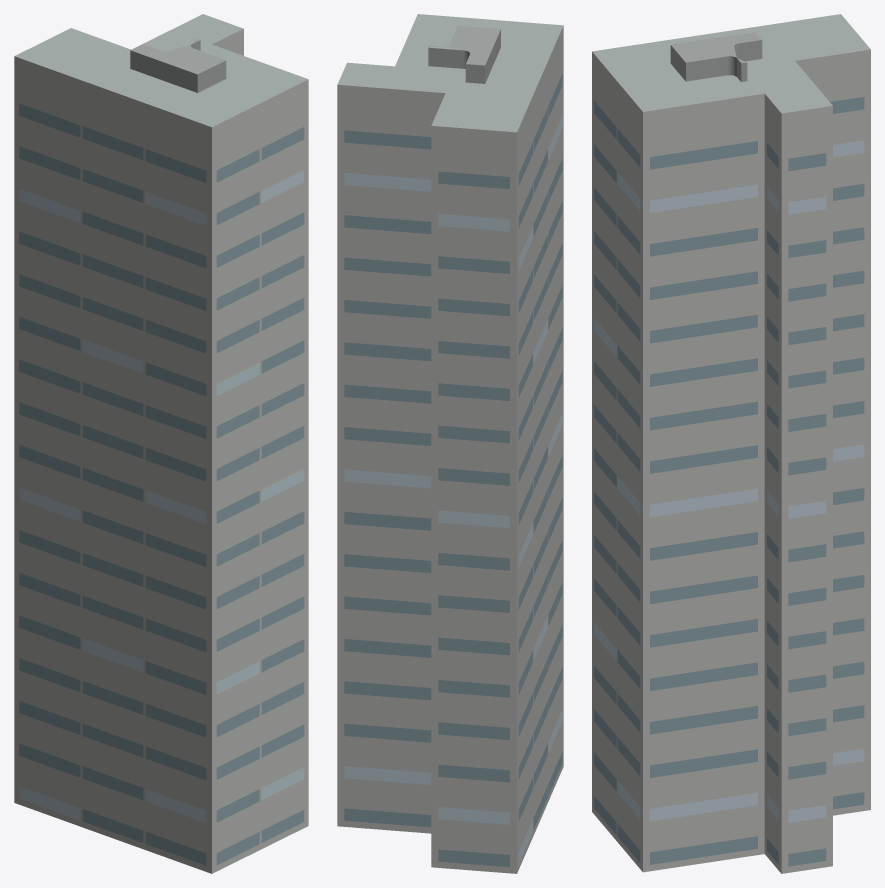
Rendered from fallback-songpa-helio-city-218.glb.
The picture shows the model from 3 angles, left to right: view 1: azimuth 30°, elevation 25°; view 2: azimuth 150°, elevation 25°; view 3: azimuth 270°, elevation 25°; orthographic projection. The views are drawn at different scales.
Visible parts, largest first — view 1: fallback-songpa-helio-city-218; view 2: fallback-songpa-helio-city-218; view 3: fallback-songpa-helio-city-218.
Boxes of the visible parts, x1=… form: fallback-songpa-helio-city-218: x1=14, y1=14, x2=308, y2=873; fallback-songpa-helio-city-218: x1=337, y1=14, x2=563, y2=873; fallback-songpa-helio-city-218: x1=592, y1=14, x2=870, y2=873.
Size of the model in its own units: 27.12 by 99 by 32.11.
